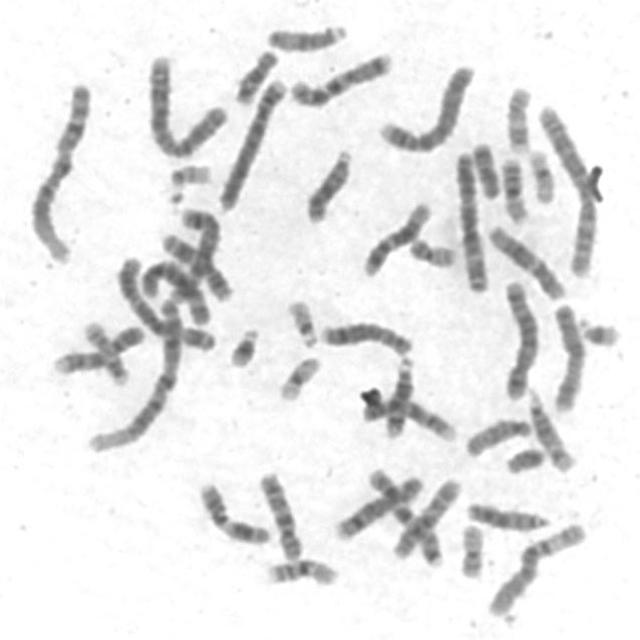A1: (79, 287, 188, 456), (21, 72, 94, 267)
A2: (531, 96, 602, 278), (139, 46, 231, 160)
A3: (109, 249, 219, 353), (448, 142, 492, 294)
B4: (211, 70, 290, 214), (371, 54, 478, 154)
B5: (162, 200, 224, 308), (496, 272, 542, 402)
C10: (384, 469, 465, 562), (251, 463, 305, 562)
C11: (154, 225, 236, 302), (190, 474, 274, 547)
C12: (479, 216, 569, 302), (355, 193, 434, 278)
C6: (479, 514, 590, 618), (120, 252, 214, 328)
C7: (360, 460, 447, 568), (282, 43, 395, 108)
C8: (327, 466, 426, 543), (312, 312, 416, 357)
C9: (352, 385, 460, 443), (46, 317, 148, 377)
D13: (298, 140, 355, 226), (459, 493, 553, 532)
D14: (520, 380, 578, 474), (377, 348, 418, 439)
D15: (458, 409, 534, 459), (259, 15, 350, 54)
E16: (258, 549, 341, 588), (494, 148, 532, 226)
E17: (76, 312, 132, 388), (498, 78, 534, 156)
E18: (227, 41, 282, 106), (466, 134, 502, 200)
F19: (271, 348, 324, 403), (522, 141, 558, 205)
F20: (452, 515, 488, 580), (402, 229, 460, 269)
G21: (572, 309, 624, 349), (222, 319, 262, 370)
G22: (280, 291, 321, 349), (162, 156, 214, 189)
X: (134, 252, 212, 328), (544, 295, 588, 415)
Y: (498, 438, 548, 476)
